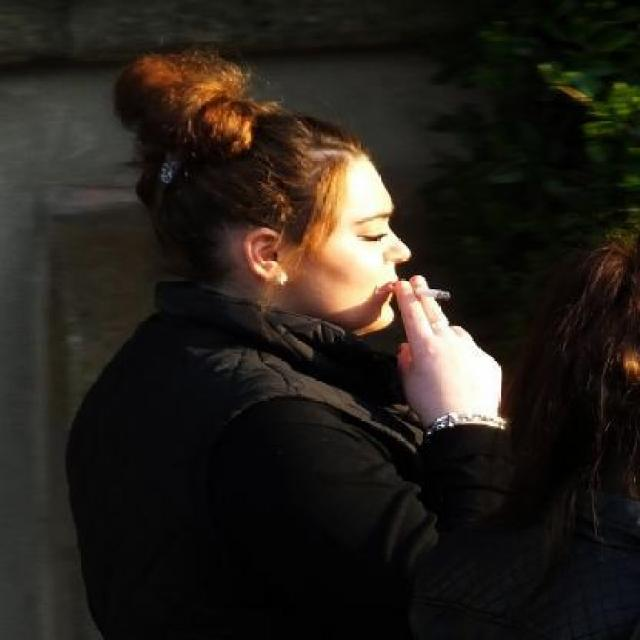smoke: (385, 266, 460, 314)
